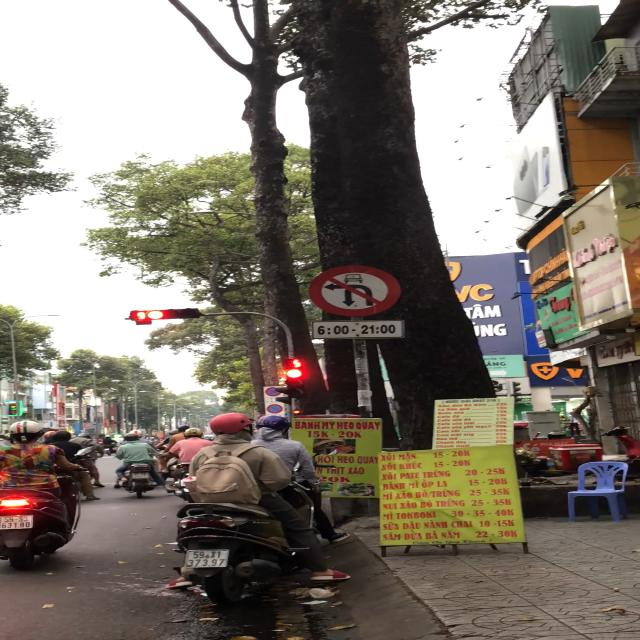Bien bao cam oto re trai va quay dau xe: (305, 260, 407, 318)
